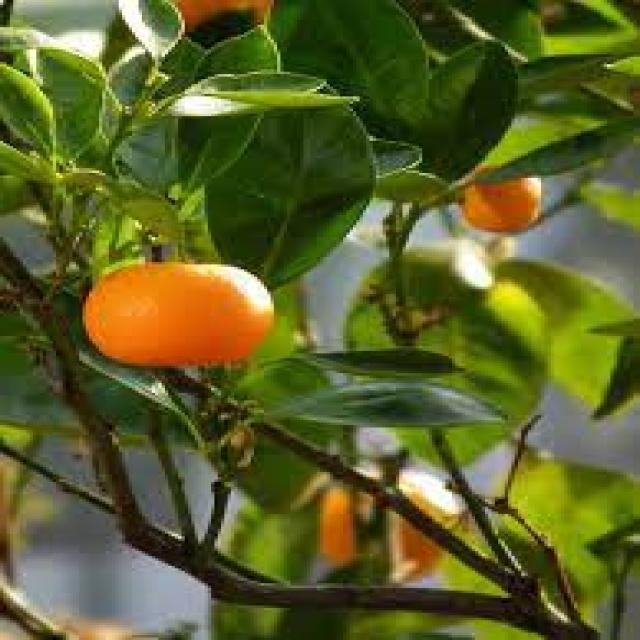Orange: (81, 259, 275, 368), (460, 173, 542, 232)
